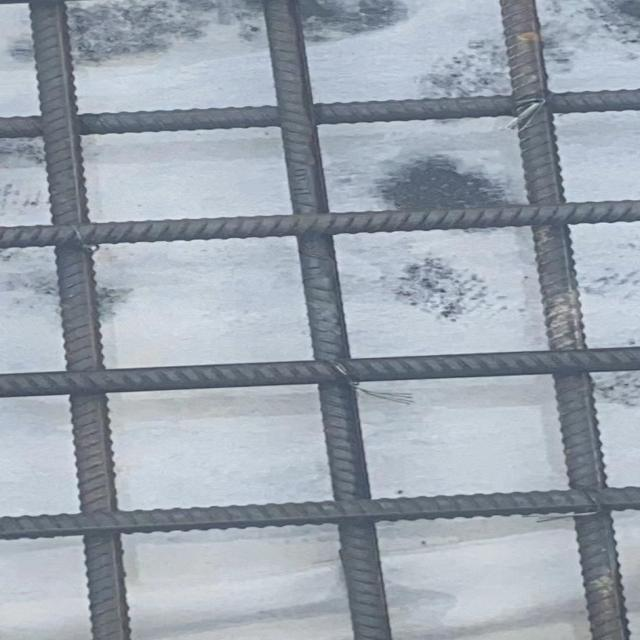ribbed bar: (499, 0, 633, 639), (262, 0, 392, 639), (25, 0, 132, 639), (0, 486, 639, 541), (0, 346, 639, 399), (0, 199, 639, 251), (0, 88, 639, 138)
